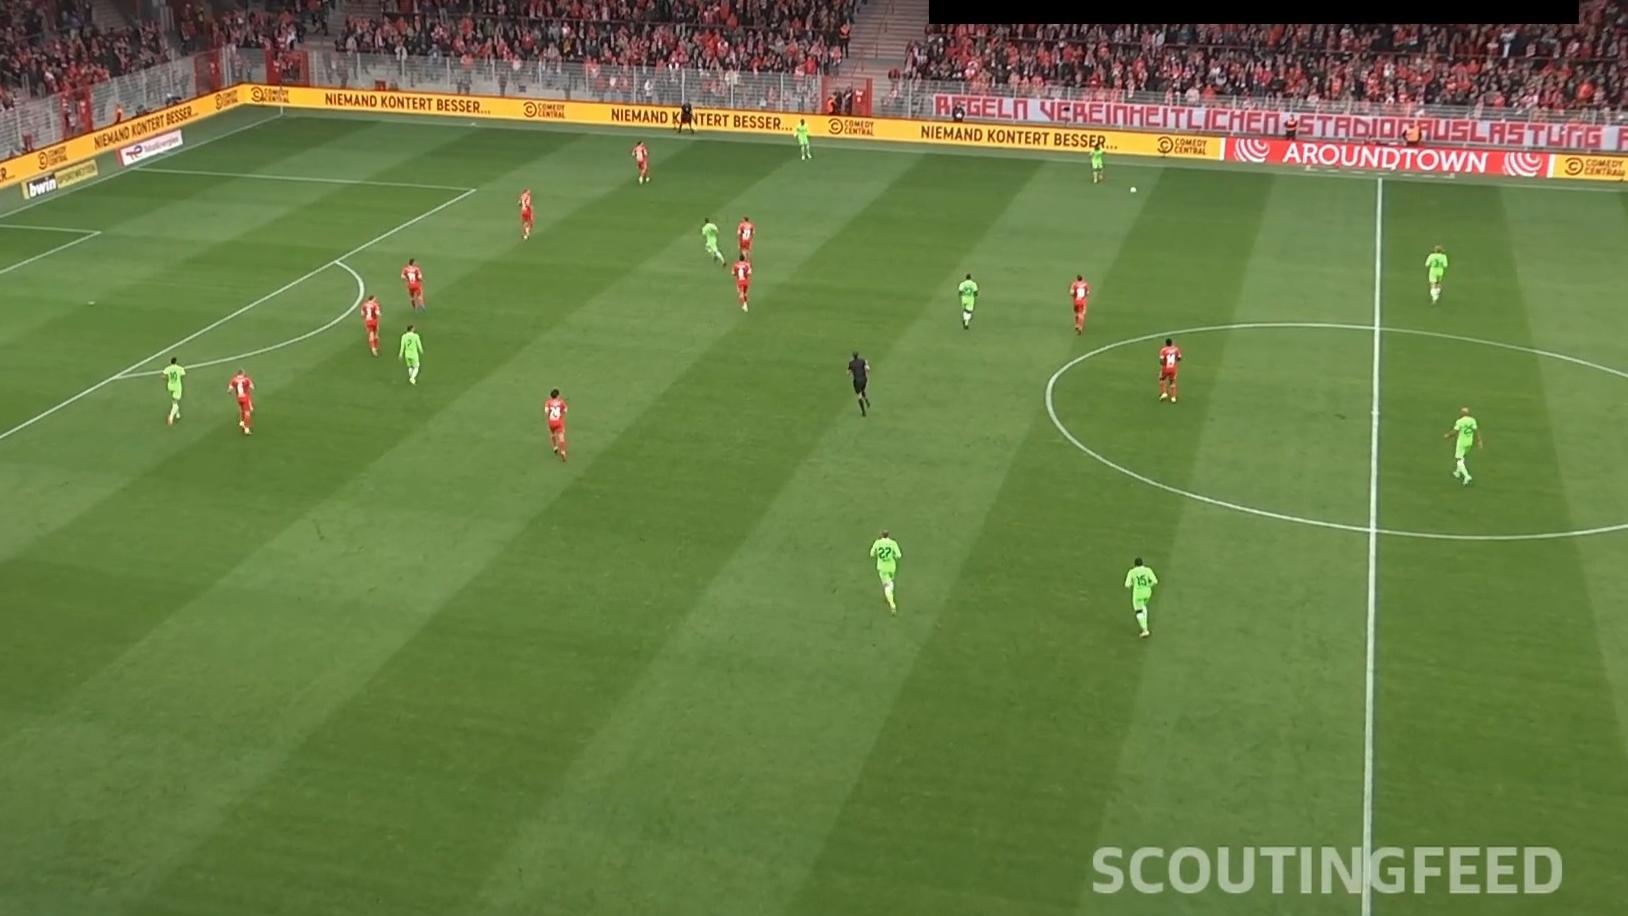ball: (1129, 185, 1138, 195)
